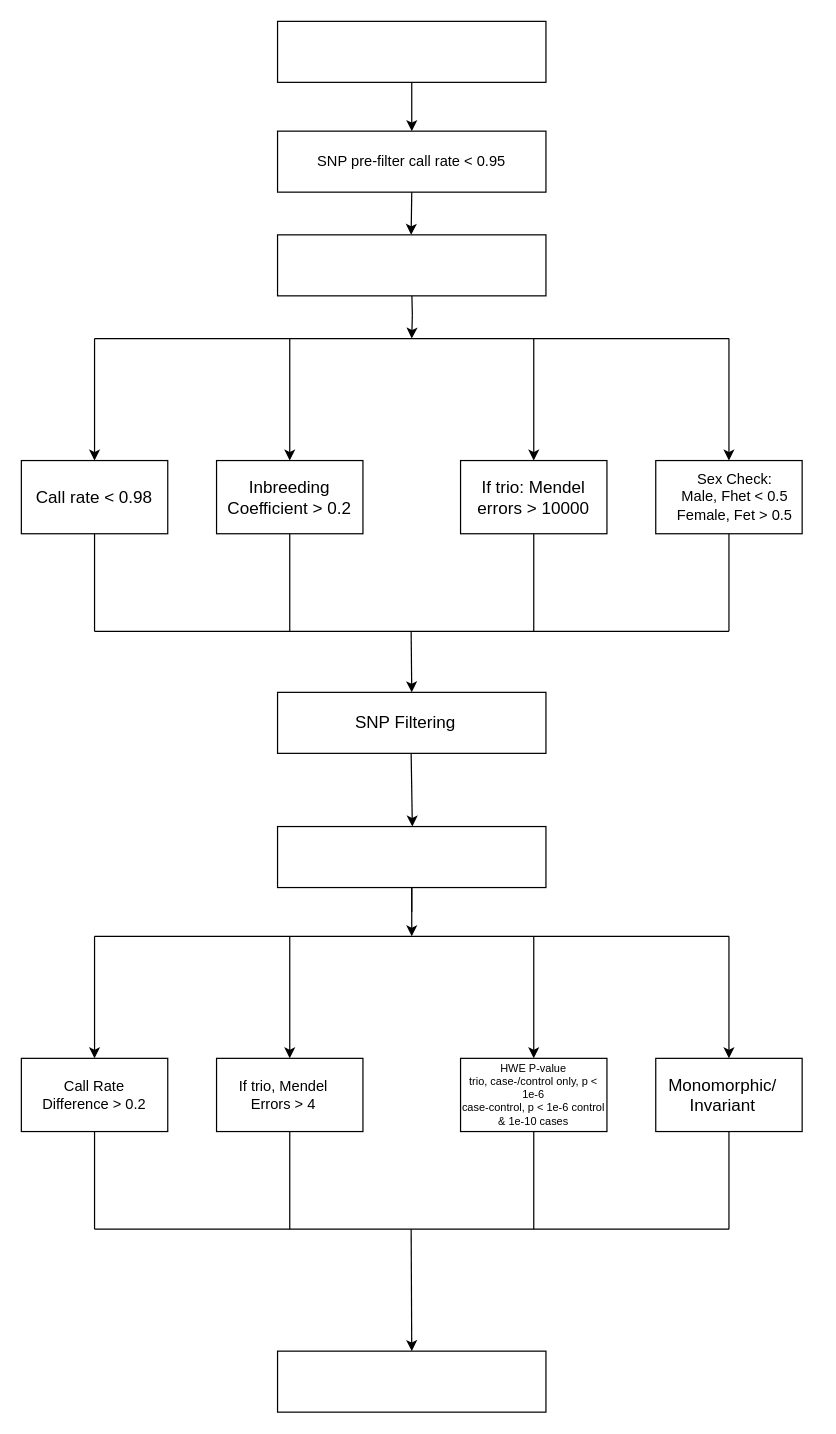
Image size: 836x1434. Some labels were removed from this diagram. Each missing label, with the centre of its shape:
"ID Filtering" goes at pixel 411 265.
"Input (PLINK, MT, VCF)" goes at pixel 411 51.
"Output (PLINK, MT, VCF)" goes at pixel 411 1381.
"SNP call rate < 0.98" goes at pixel 411 856.
